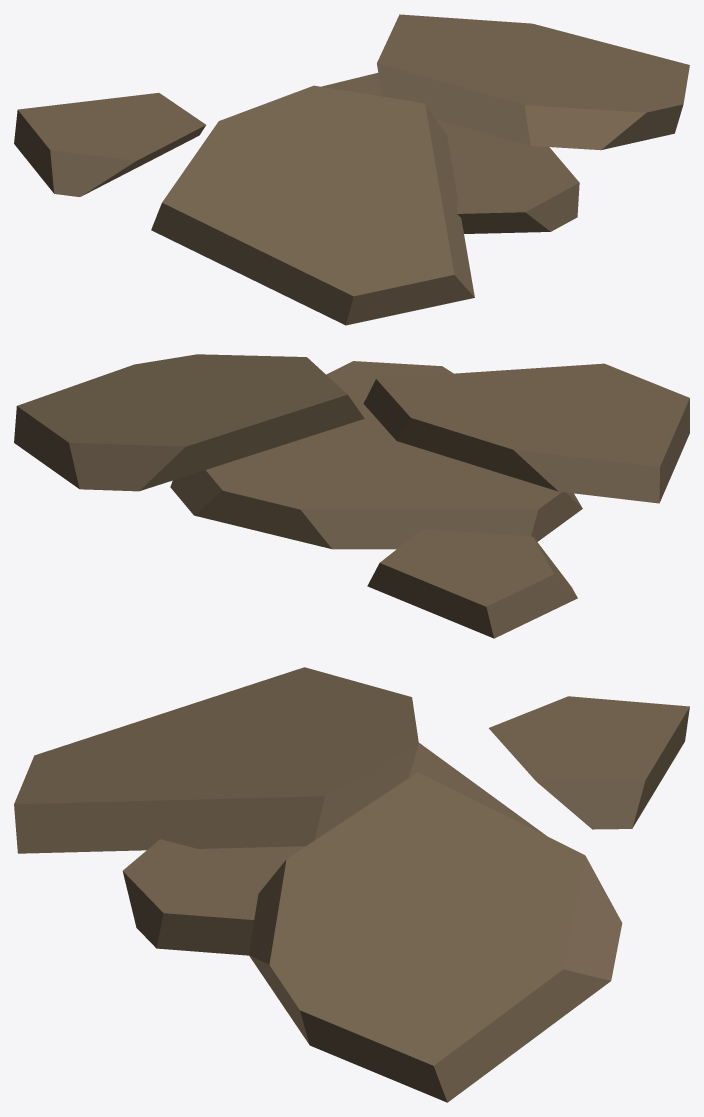
The model's file is LP_PostApoc_RubblePile2.fbx.
3 views of the same model, one above another, from view 1: azimuth 30°, elevation 25°; view 2: azimuth 150°, elevation 25°; view 3: azimuth 270°, elevation 25° (orthographic). The views are drawn at different scales.
Visible parts, largest first — view 1: RubblePile2; view 2: RubblePile2; view 3: RubblePile2.
Part boxes in pixels (<box>): RubblePile2: <box>14,14,689,325</box>; RubblePile2: <box>14,354,689,638</box>; RubblePile2: <box>14,667,689,1102</box>.
Bounding box in the file's own units: 188 × 35.13 × 152.
